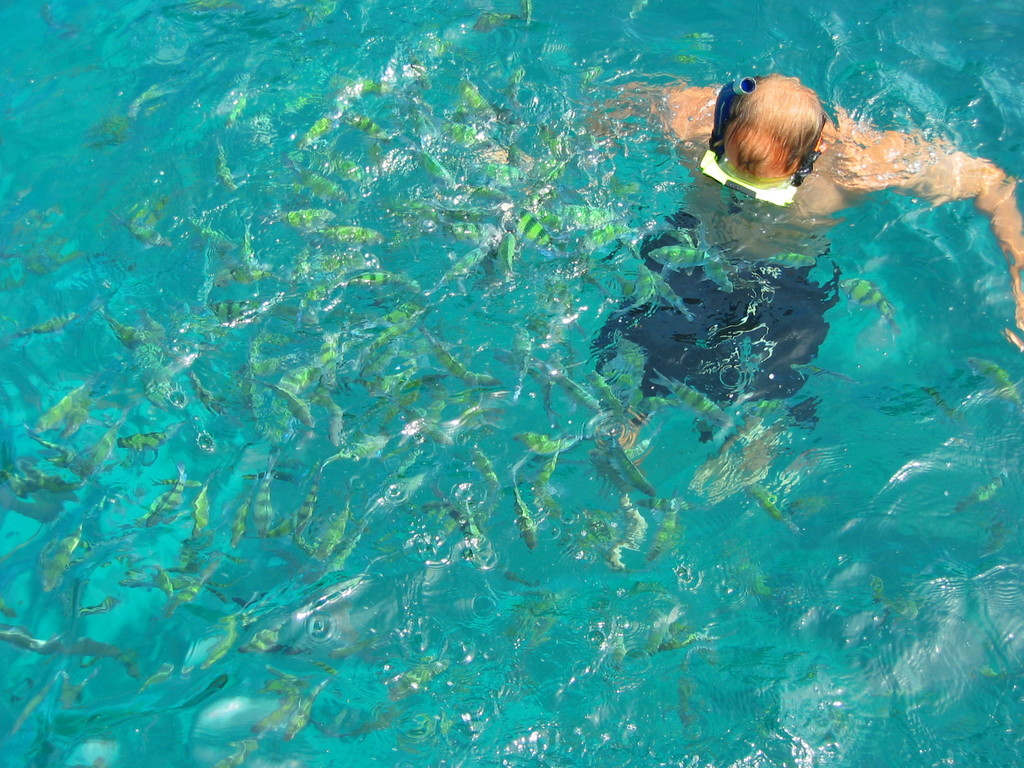Person: (585, 72, 1024, 504)
